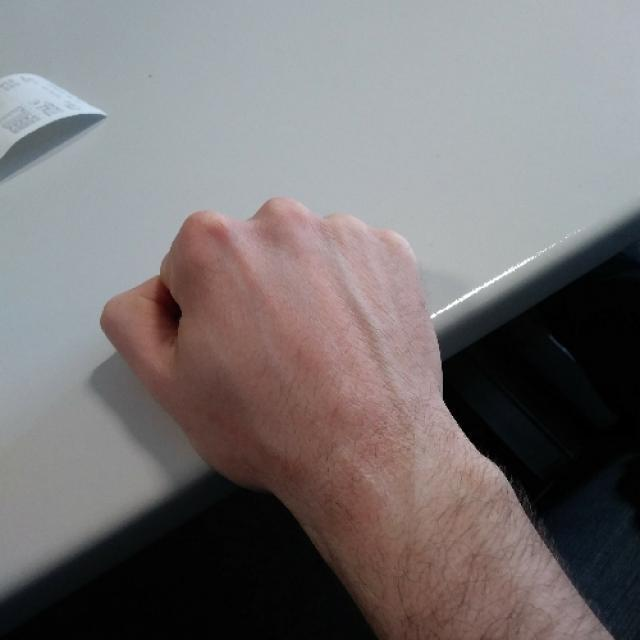rock: (99, 195, 446, 483)
